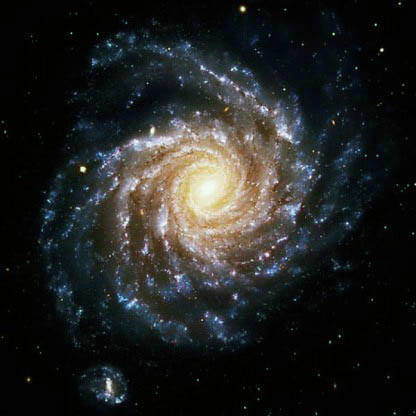NGC 1232: (35, 13, 371, 407)
